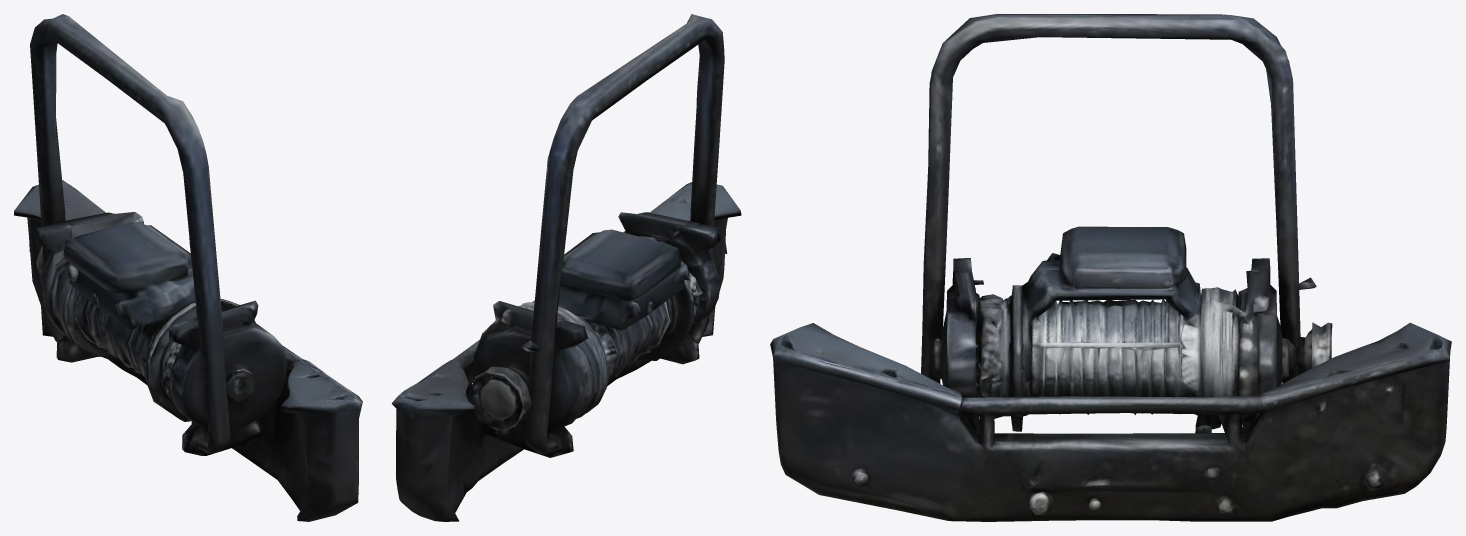
3 renders of one model, left to right at view 1: azimuth 30°, elevation 25°; view 2: azimuth 150°, elevation 25°; view 3: azimuth 270°, elevation 25°, orthographic. The views are drawn at different scales.
Parts seen in each view (by area): view 1: tripo_node_2e9a7772-5ede-4523-b53b-2535073de0c1; view 2: tripo_node_2e9a7772-5ede-4523-b53b-2535073de0c1; view 3: tripo_node_2e9a7772-5ede-4523-b53b-2535073de0c1.
Part boxes in pixels (<box>): tripo_node_2e9a7772-5ede-4523-b53b-2535073de0c1: <box>14,14,362,521</box>; tripo_node_2e9a7772-5ede-4523-b53b-2535073de0c1: <box>391,14,741,521</box>; tripo_node_2e9a7772-5ede-4523-b53b-2535073de0c1: <box>770,14,1451,521</box>.
Size of the model in its own units: 0.2828 by 0.7048 by 0.981.
Materials: 1 (1 with a texture image).
